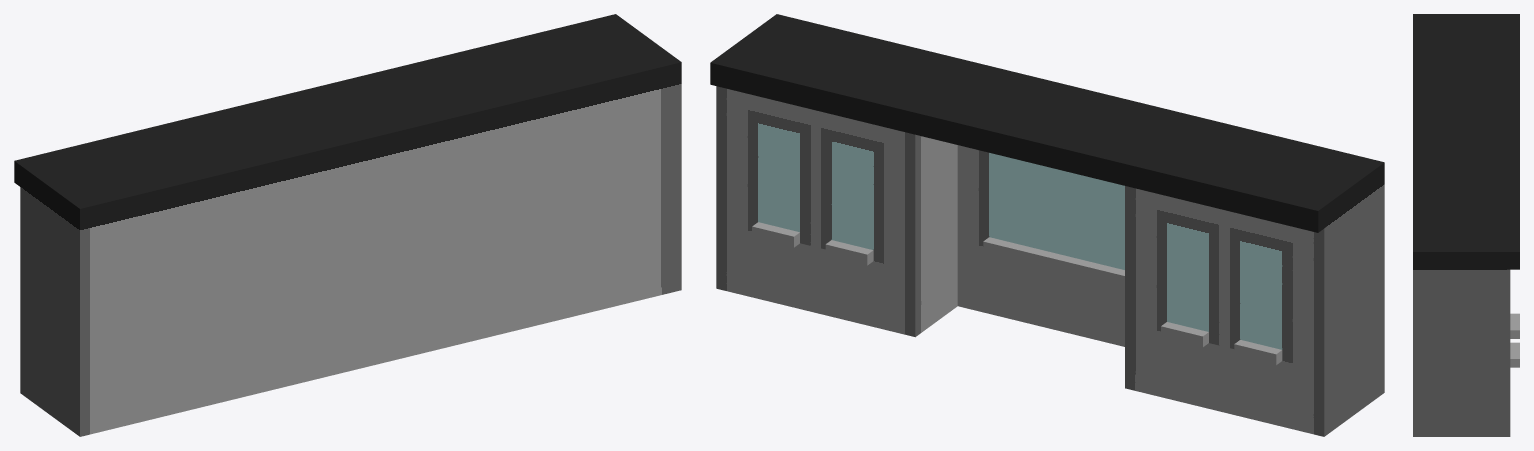
File: obj_floor2c.dae
3 renders of one model, left to right at view 1: azimuth 30°, elevation 25°; view 2: azimuth 150°, elevation 25°; view 3: azimuth 270°, elevation 25°, orthographic. The views are drawn at different scales.
Parts seen in each view (by area): view 1: obj_floor2c; view 2: obj_floor2c; view 3: obj_floor2c.
Boxes of the visible parts, x1,y1,x2,y2 form: obj_floor2c: [14, 14, 681, 436]; obj_floor2c: [710, 14, 1384, 436]; obj_floor2c: [1413, 14, 1519, 436].
Size of the model in its own units: 5.8 by 1.1 by 2.1.
Materials: 1 (1 with a texture image).
